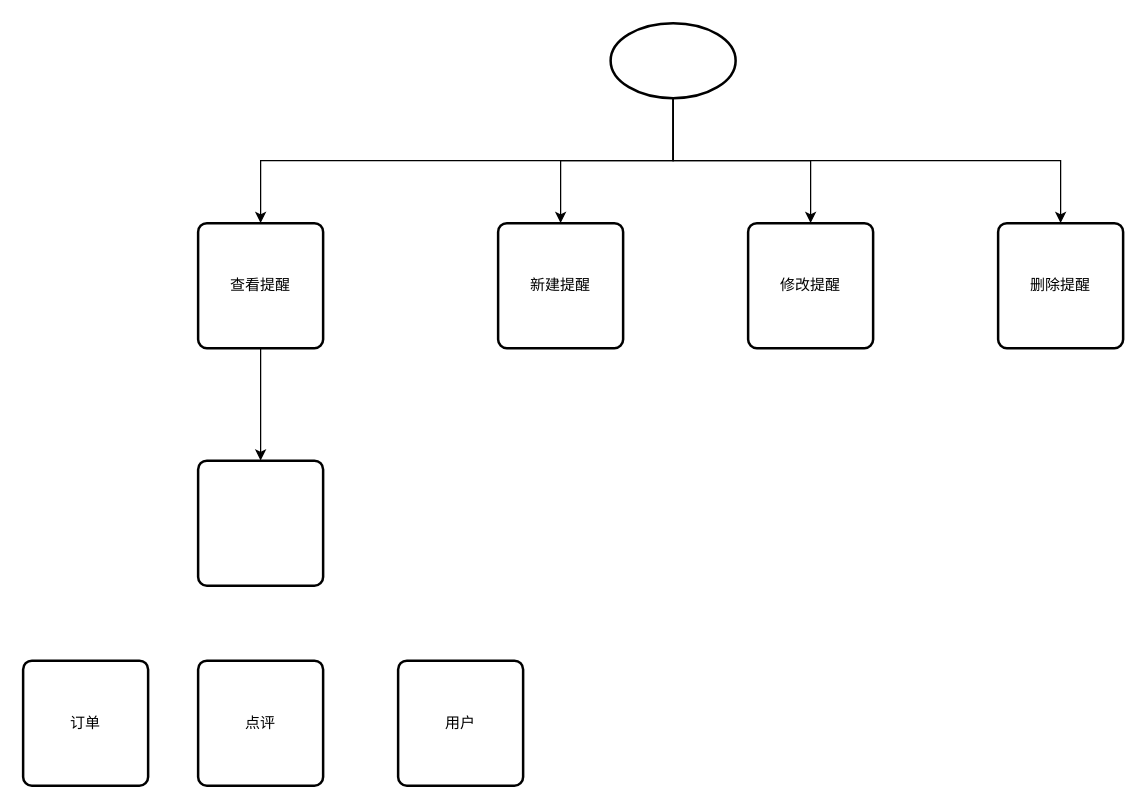
Some shapes in this 1145 by 808 pixel diagram are drawn without their labels. The centre of each missing label's shape, as x and y in pixels:
业务: [260,522]
开始: [672,60]
